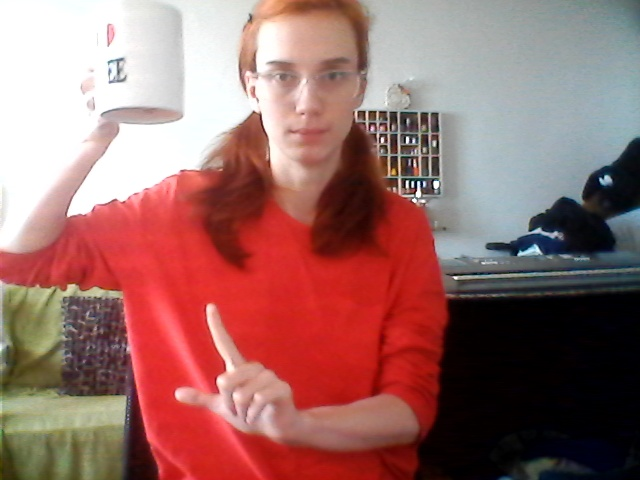l: (161, 304, 308, 450)
